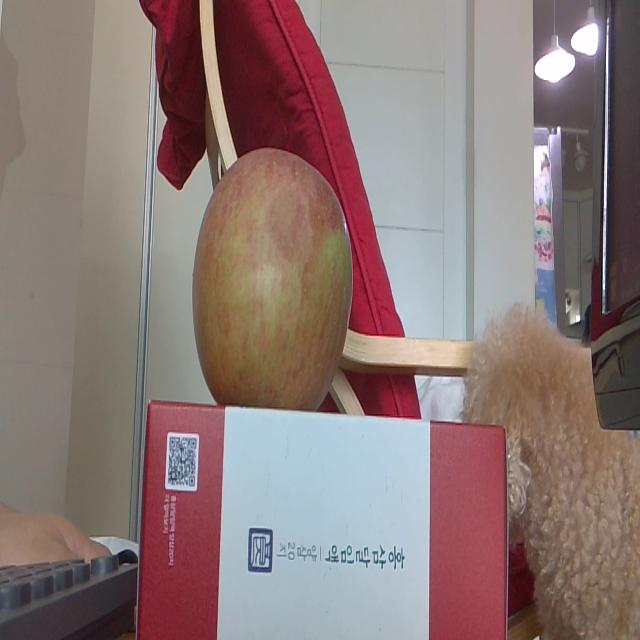apple: (192, 148, 353, 410)
